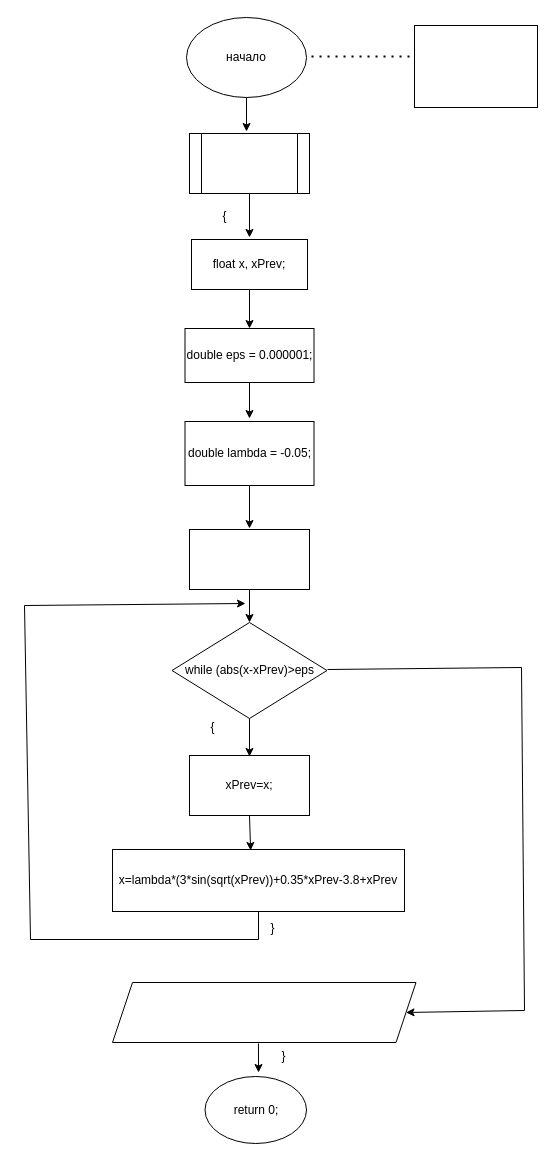
The diagram is 555 pixels wide and 1161 high, and some of its shapes have lost their labels. Here are the shapes that lost their labels. From the top down, the centre of each, then its label:
point (476, 66): #include <iostream> #include <cmath> using namespase std;
point (249, 163): int main()
point (249, 559): x=3;
point (264, 1012): cout << "Корень по методу итераций:"<<x<<endl;
